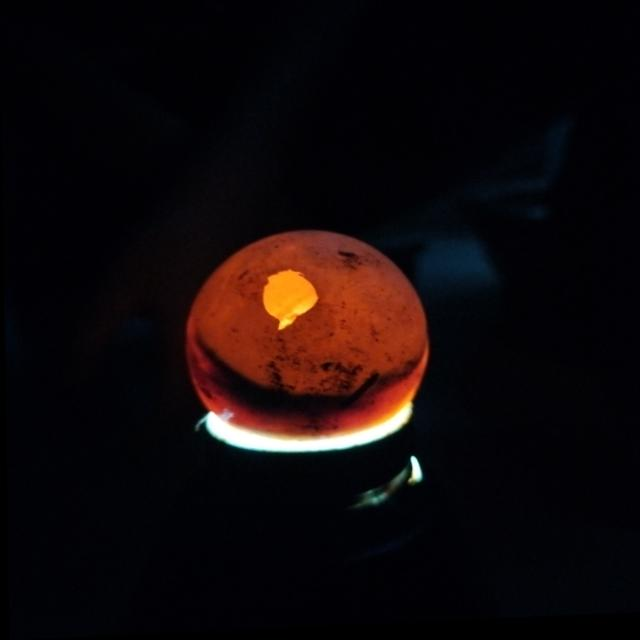Area Infectada: (185, 322, 427, 438)
